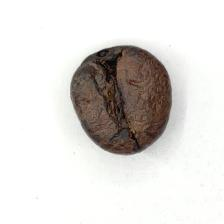NG: (78, 47, 150, 149)
